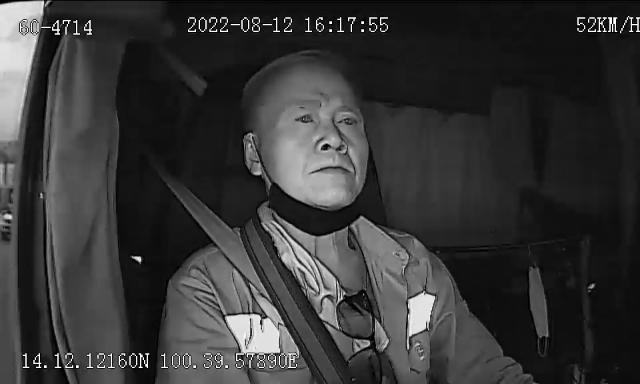SafeDriving: (331, 104, 366, 132), (288, 103, 322, 130)
Seatbelt: (153, 164, 357, 384)
